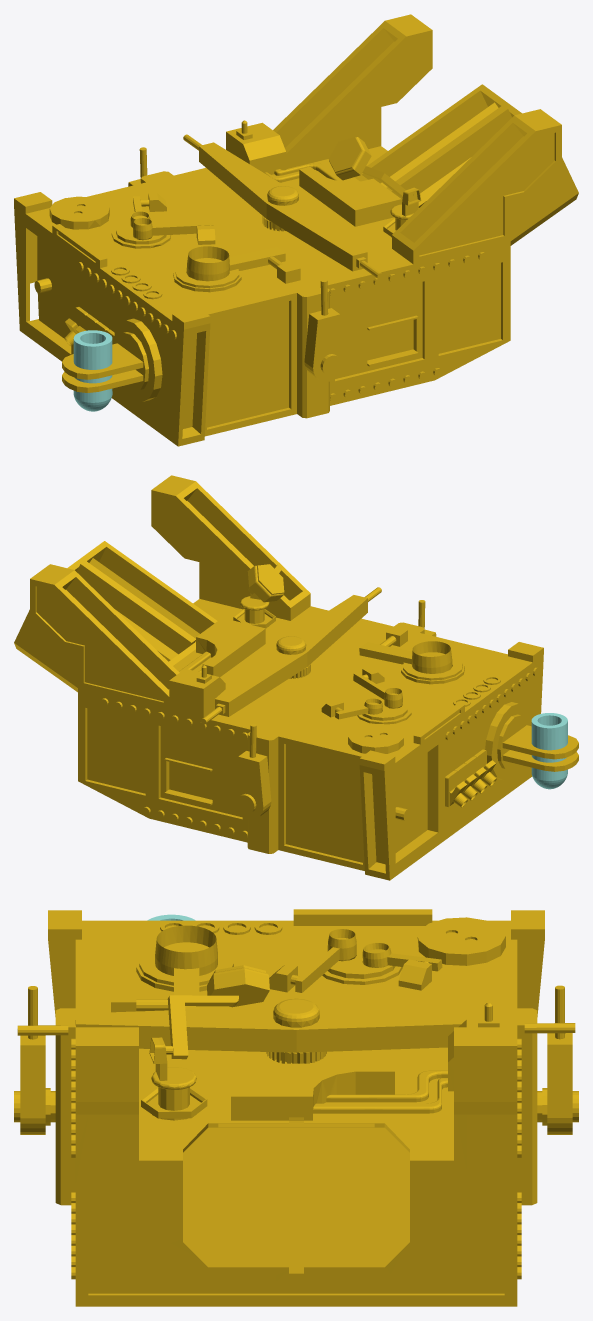
The model's file is Mars6Mars_Rover__Curiosity_1_0__-_whole_body.001.dae.
3 views of the same model, one above another, from view 1: azimuth 30°, elevation 25°; view 2: azimuth 150°, elevation 25°; view 3: azimuth 270°, elevation 25° (orthographic). The views are drawn at different scales.
Visible parts, largest first — view 1: tmp_export_Mars6Mars_Rover__Curiosity_1_0__-_whole_body.001; view 2: tmp_export_Mars6Mars_Rover__Curiosity_1_0__-_whole_body.001; view 3: tmp_export_Mars6Mars_Rover__Curiosity_1_0__-_whole_body.001.
Boxes of the visible parts, x1,y1,x2,y2 form: tmp_export_Mars6Mars_Rover__Curiosity_1_0__-_whole_body.001: (14,14,578,446); tmp_export_Mars6Mars_Rover__Curiosity_1_0__-_whole_body.001: (14,475,578,880); tmp_export_Mars6Mars_Rover__Curiosity_1_0__-_whole_body.001: (14,909,578,1306).
Bounding box in the file's own units: 3.17 × 2.03 × 1.3.
